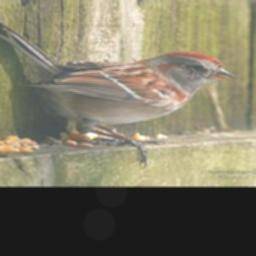Sparrow: (0, 21, 236, 168)
